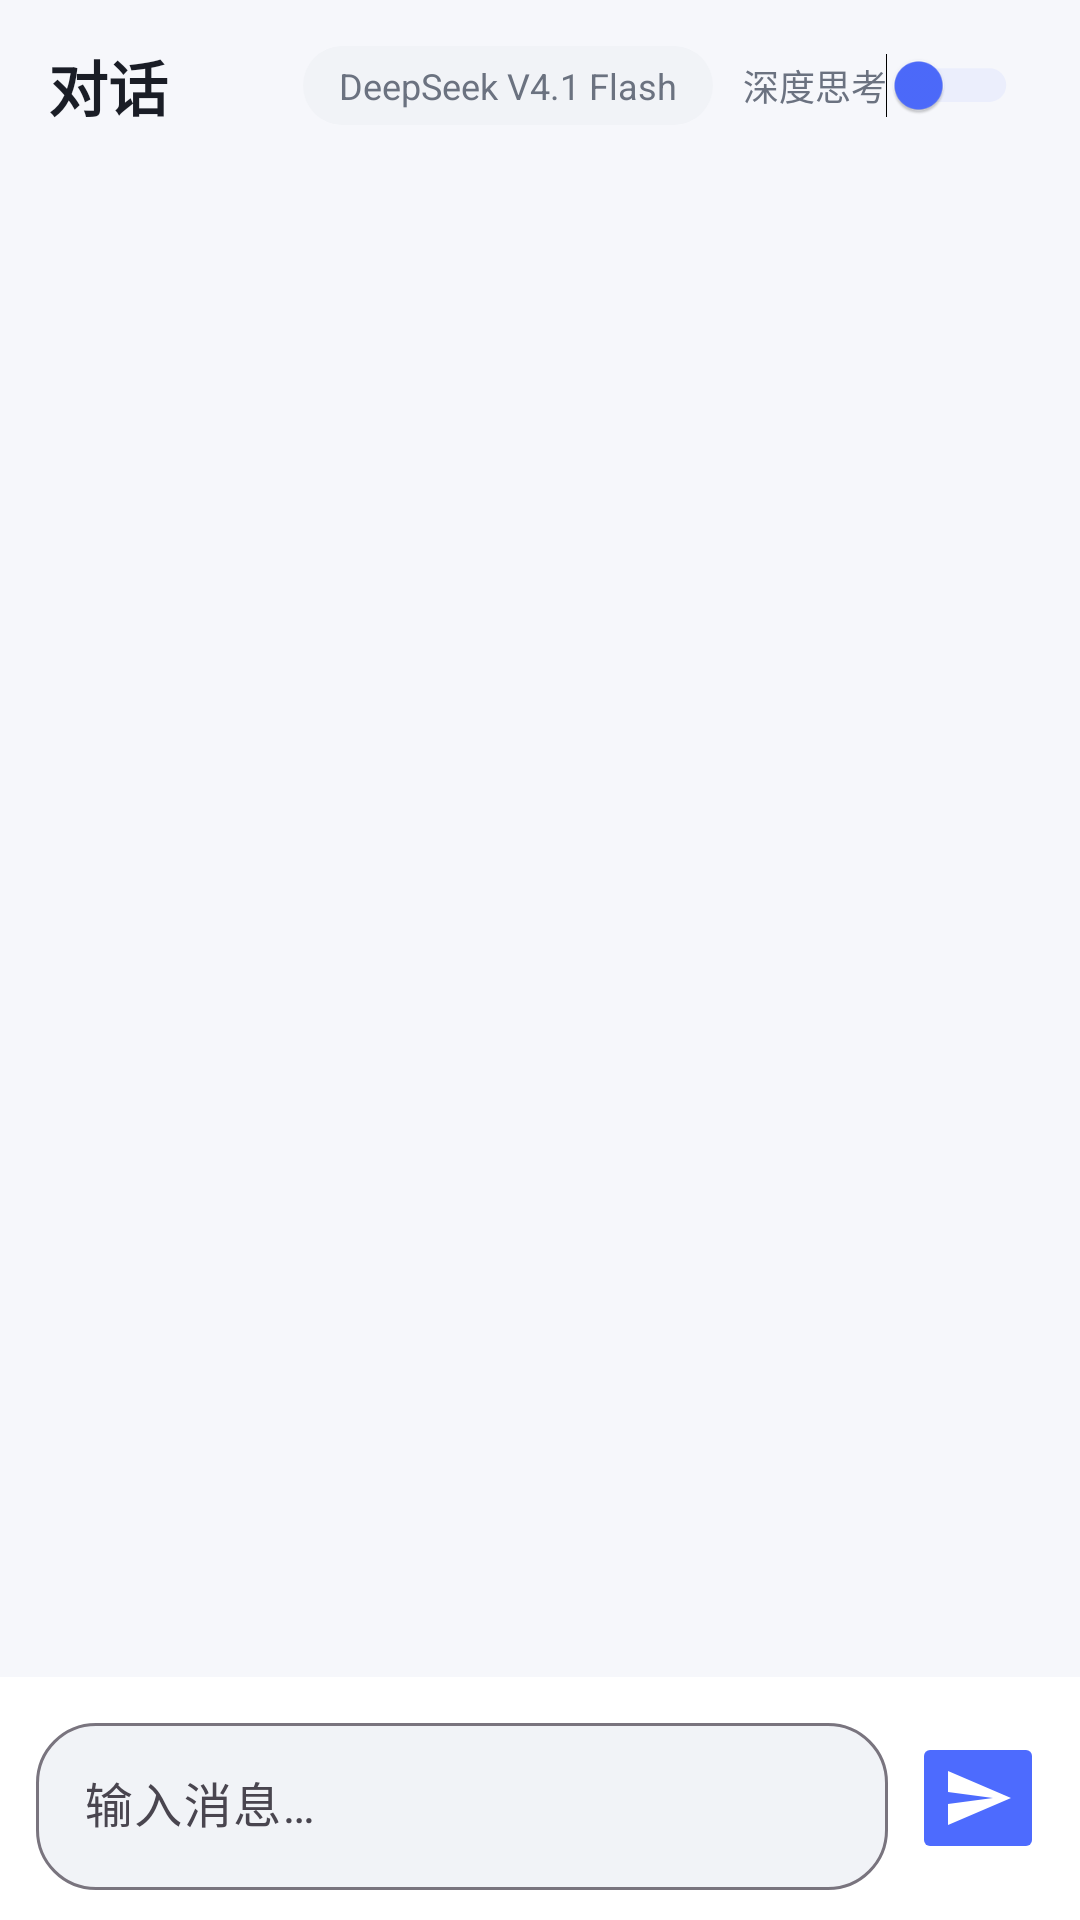

Icon bounding boxes for this 1080 × 1920 phone screenshot, format bbox=(x1, y1, x2, y2):
发送: bbox=(924, 1750, 1032, 1846)
